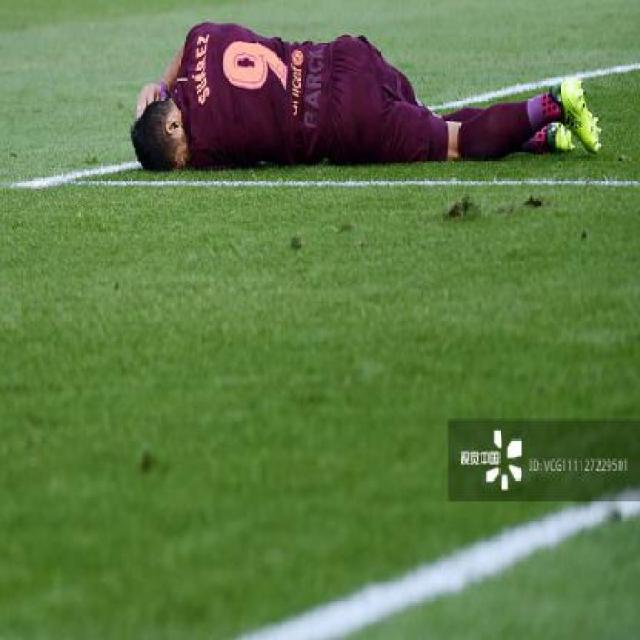fall: (130, 9, 595, 177)
